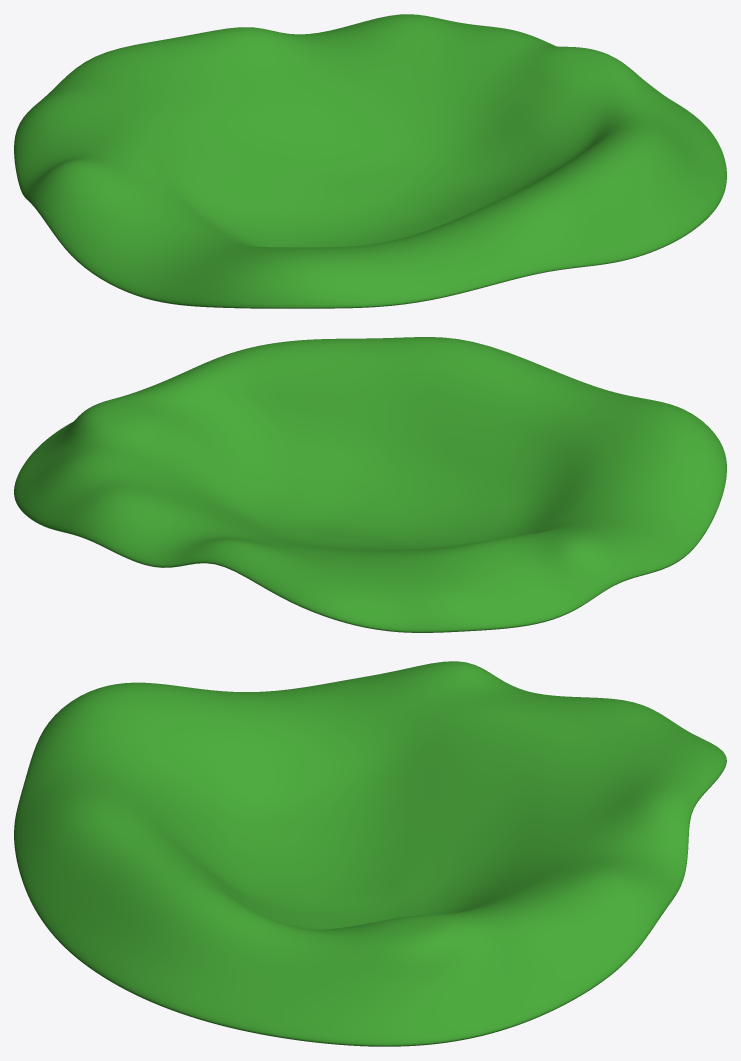
Rendered from grassfield.glb.
3 renders of one model, top to bottom at view 1: azimuth 30°, elevation 25°; view 2: azimuth 150°, elevation 25°; view 3: azimuth 270°, elevation 25°, orthographic. The views are drawn at different scales.
Visible parts, largest first — view 1: Sphere; view 2: Sphere; view 3: Sphere.
Part boxes in pixels (x1,y1,x2,y2): Sphere: (14,14,726,308); Sphere: (14,337,726,632); Sphere: (14,661,726,1046).
Bounding box in the file's own units: 767 × 148 × 681.
